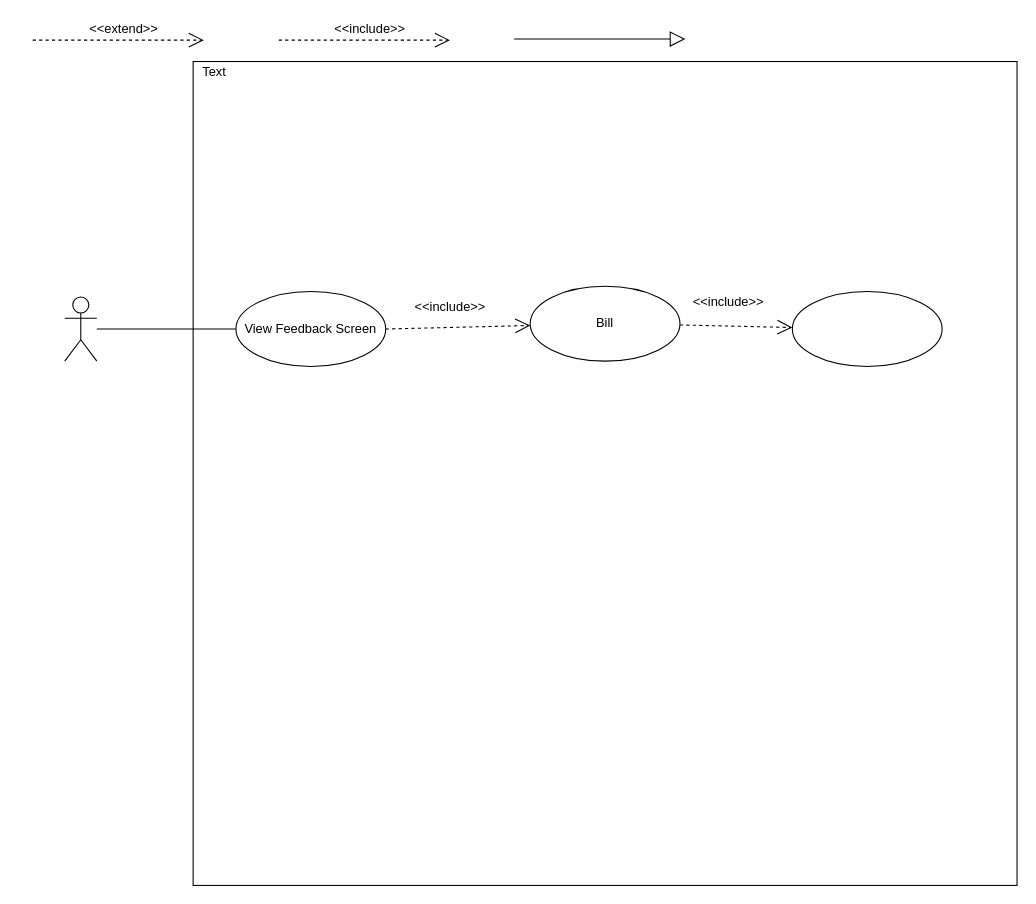
The diagram is 1036 pixels wide and 904 high, and some of its shapes have lost their labels. The shapes that lost their labels are listed below. From the top down, each one's centre as x and y in pixels, then its label:
[80,328]: Actor
[866,328]: Login
